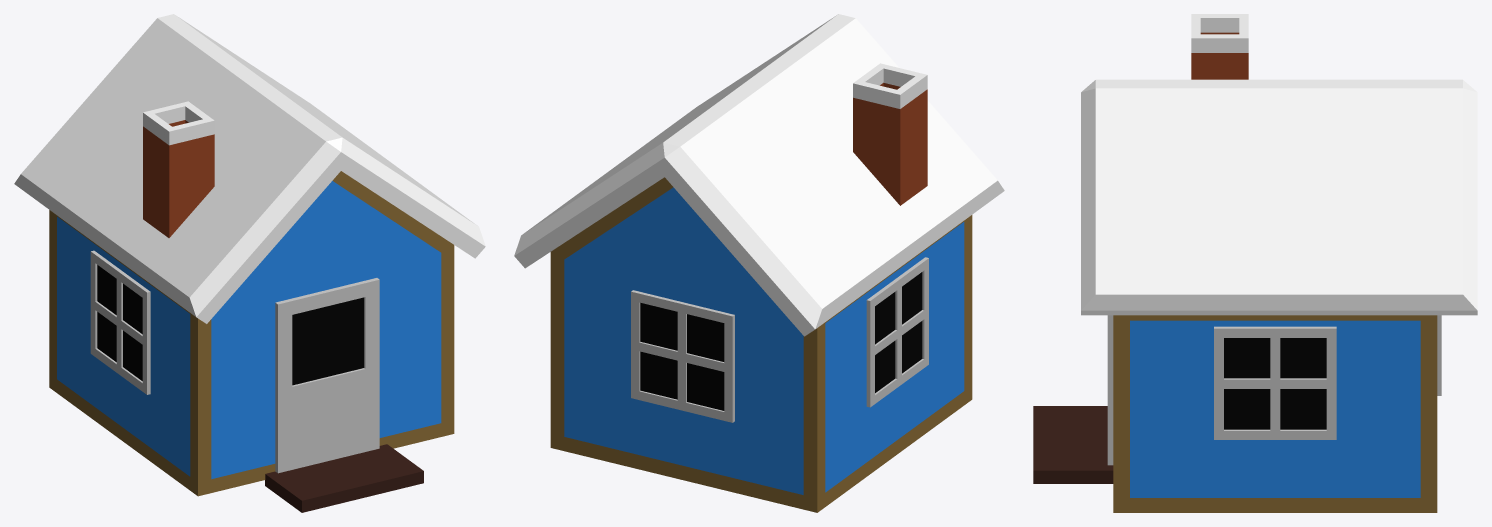
File: House1.fbx
The picture shows the model from 3 angles, left to right: view 1: azimuth 30°, elevation 25°; view 2: azimuth 150°, elevation 25°; view 3: azimuth 270°, elevation 25°; orthographic projection. The views are drawn at different scales.
Parts seen in each view (by area): view 1: House1; view 2: House1; view 3: House1.
Boxes of the visible parts, x1,y1,x2,y2 form: House1: [14, 14, 485, 512]; House1: [514, 14, 1004, 512]; House1: [1033, 14, 1477, 512].
Bounding box in the file's own units: 330 × 373 × 403.
